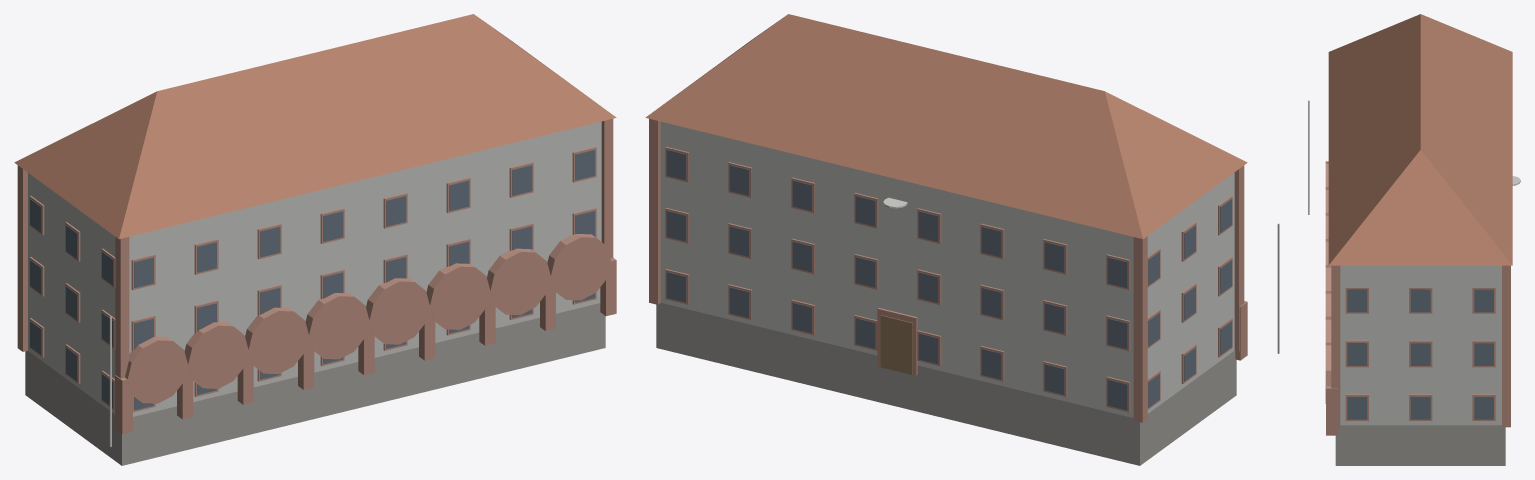
Rendered from landmark-kandern-rathaus.glb.
3 renders of one model, left to right at view 1: azimuth 30°, elevation 25°; view 2: azimuth 150°, elevation 25°; view 3: azimuth 270°, elevation 25°, orthographic. The views are drawn at different scales.
Parts seen in each view (by area): view 1: building; view 2: building; view 3: building.
Part boxes in pixels (bbox=[...]): building: bbox=[14, 14, 616, 465]; building: bbox=[645, 14, 1279, 465]; building: bbox=[1308, 14, 1520, 465].
Bounding box in the file's own units: 29.28 × 17.23 × 11.85.
